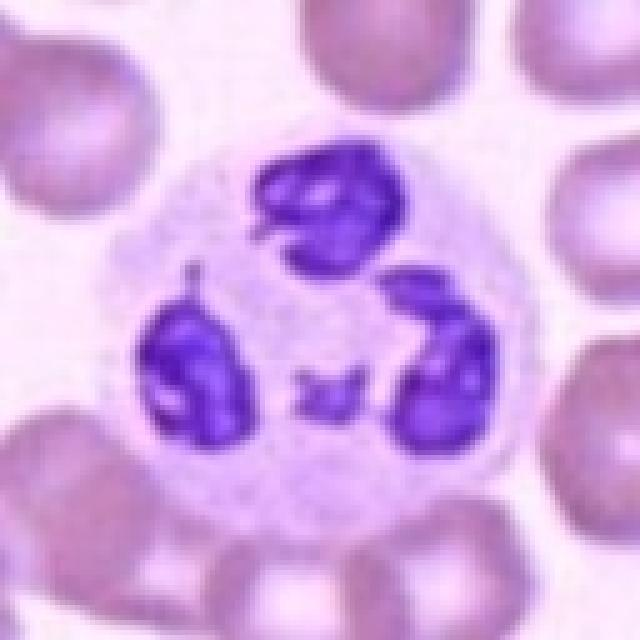neutro: (83, 126, 545, 515)
